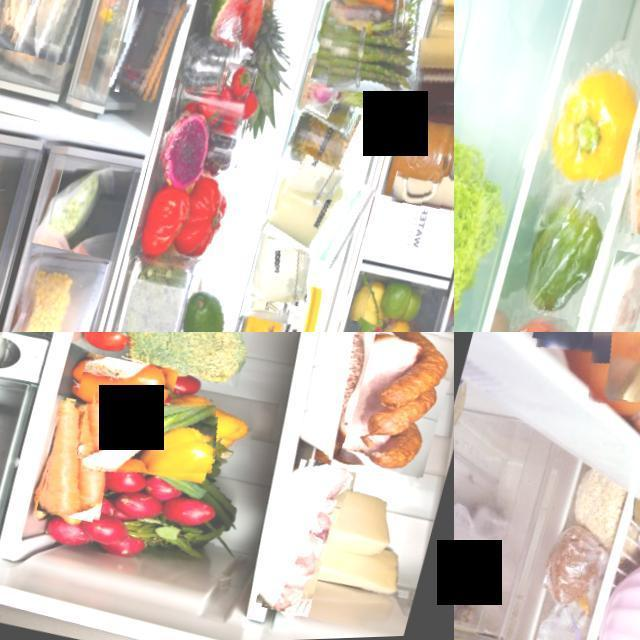beef: (258, 458, 352, 624), (559, 248, 640, 332), (614, 124, 640, 243)
bell_pepper: (541, 53, 640, 198), (520, 188, 618, 320), (156, 388, 264, 481), (75, 351, 180, 426), (484, 305, 572, 332)
bottle: (387, 108, 454, 249), (399, 7, 454, 175), (576, 332, 640, 430), (526, 332, 640, 378)
carrot: (34, 395, 126, 528)
cucumber: (174, 286, 240, 332)
ground_beef: (340, 332, 454, 485)
parsley: (300, 0, 454, 110), (454, 128, 509, 332)
plasticsaveholder: (262, 155, 377, 275), (0, 239, 109, 332), (0, 0, 130, 68), (244, 208, 325, 313), (109, 0, 188, 104), (286, 82, 374, 173)
red_cabbage: (119, 332, 257, 393)
spring_onion: (73, 383, 226, 497)
tomato: (88, 459, 232, 580), (128, 157, 250, 286)
watermelon: (182, 0, 294, 71)
